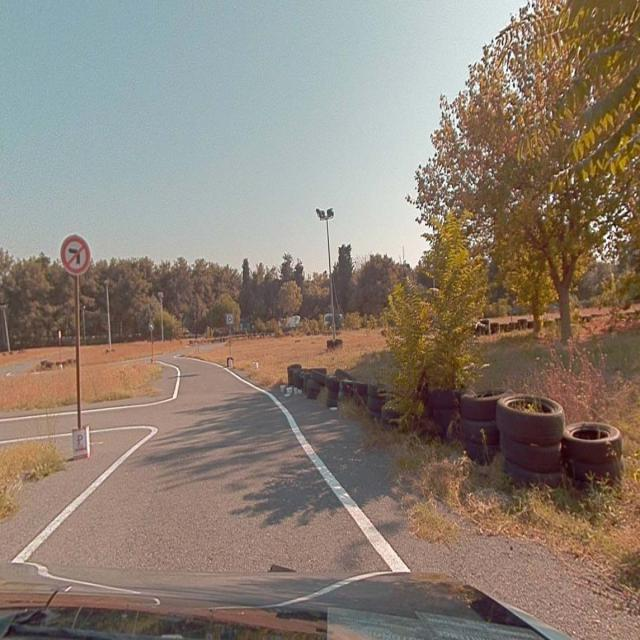durak: (226, 314, 233, 324)
soladonulmez: (61, 236, 91, 272)
